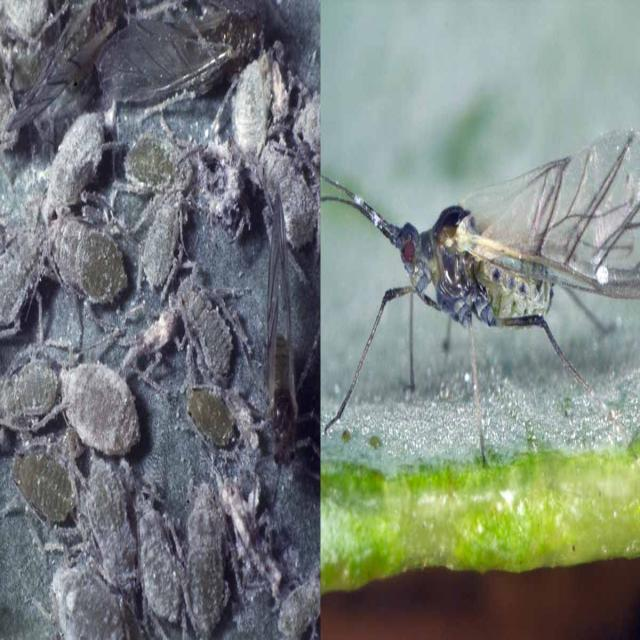Aphid-Grouped-: (7, 110, 277, 619)
Aphid-Grown-: (47, 346, 149, 459), (174, 474, 242, 628), (169, 276, 254, 385), (48, 214, 136, 312), (12, 432, 82, 531), (134, 496, 183, 626), (174, 371, 240, 460)
Aphid-Grown-have wings-: (340, 104, 640, 444)
